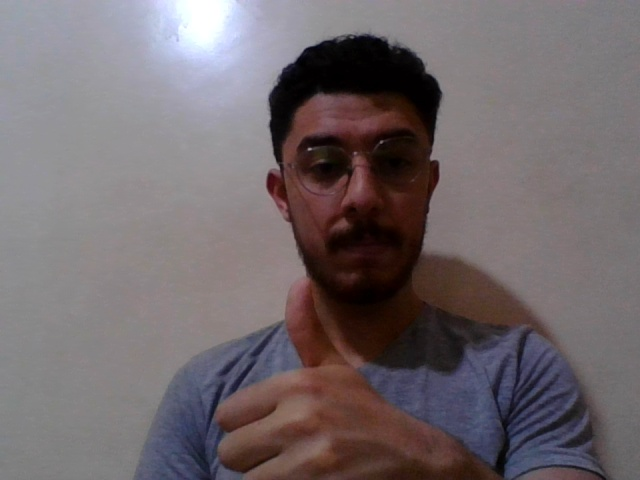Yes: (206, 271, 463, 480)
